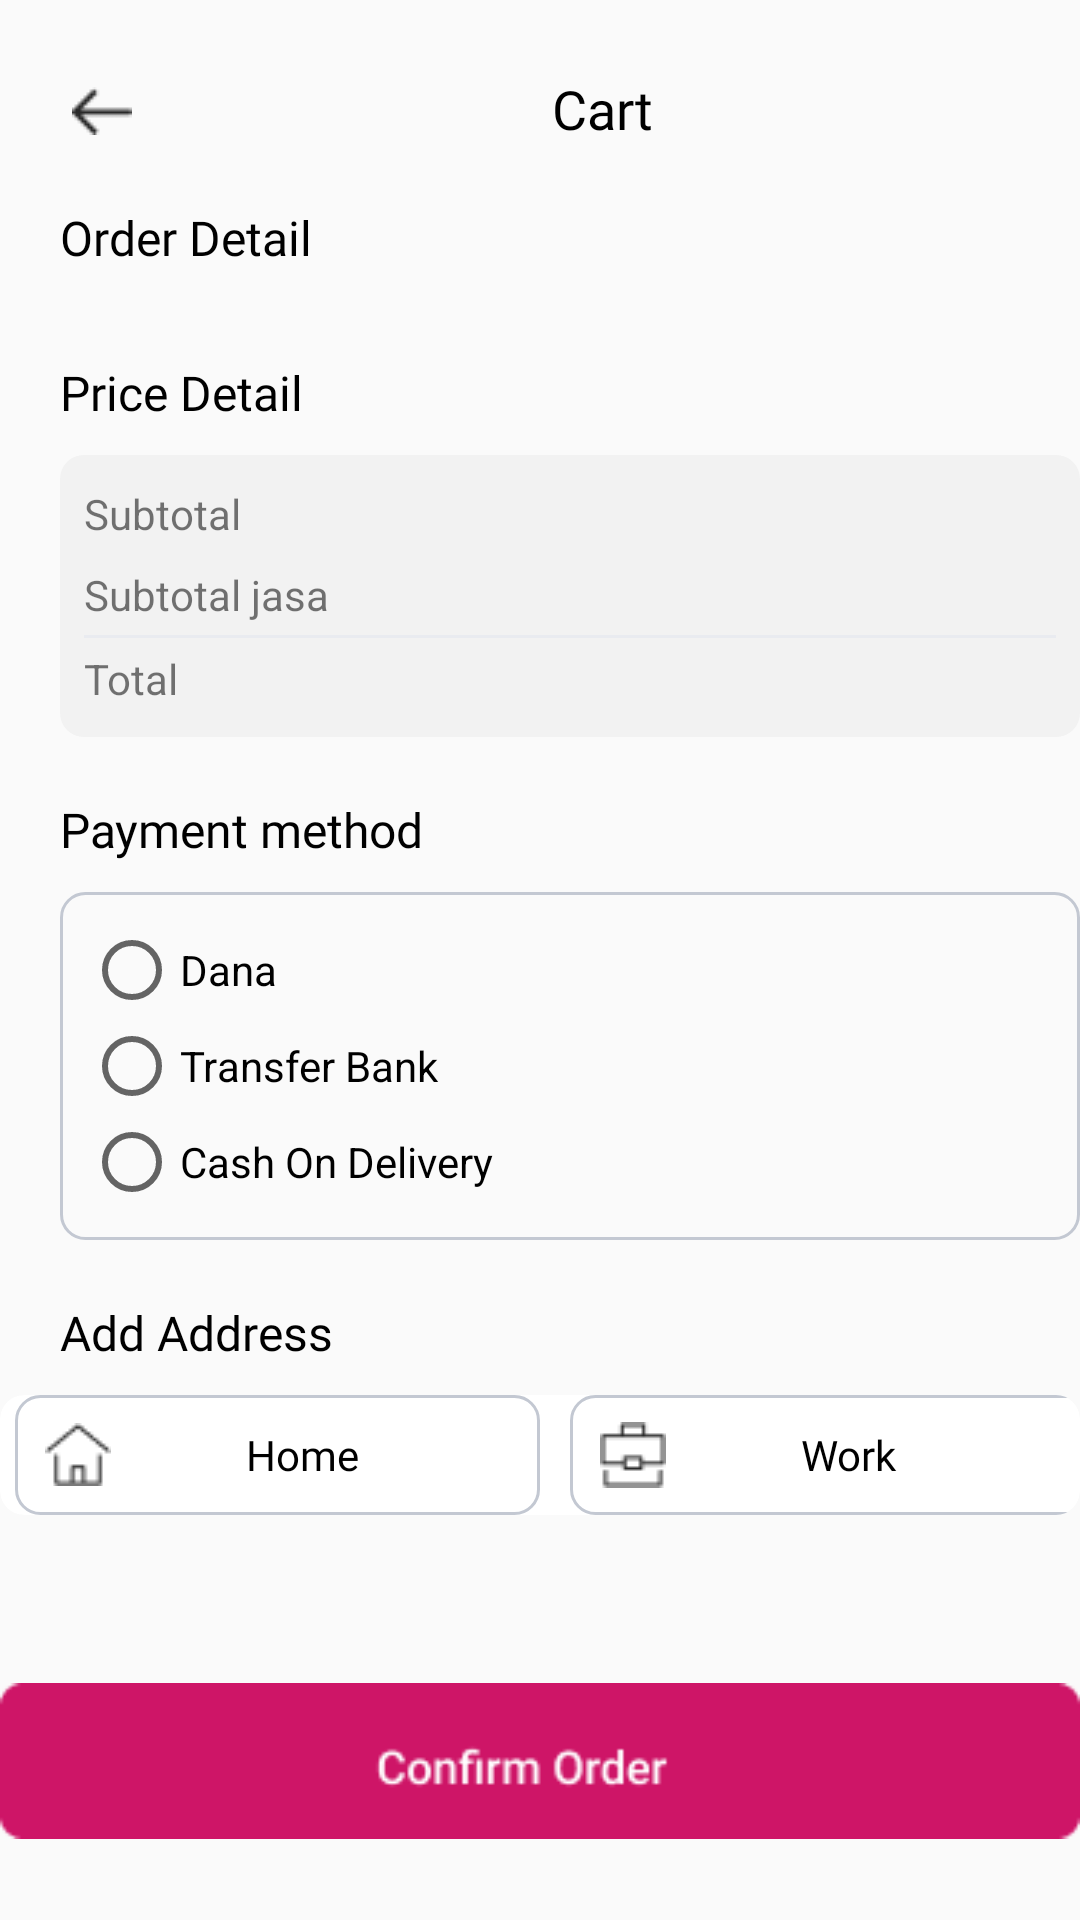

Where icons sit on this 1080×1920 app screen, as BBox(x1, y1, x2, y2):
back: BBox(72, 89, 132, 135)
